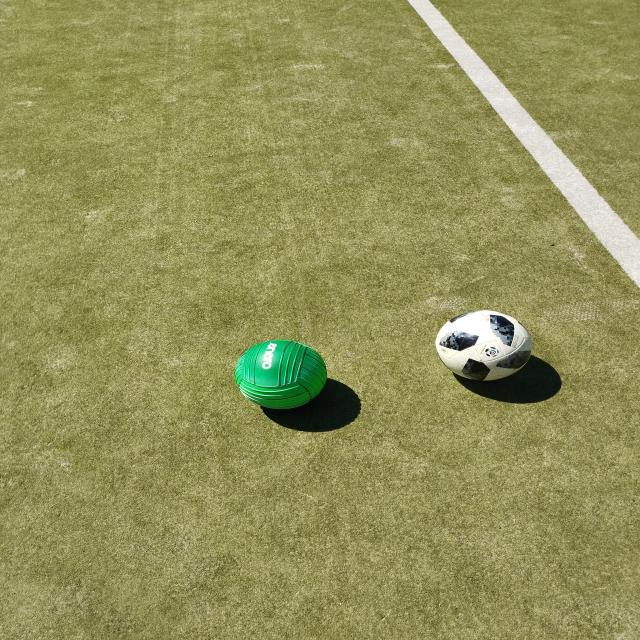nozna: (436, 310, 533, 381)
zielona: (235, 339, 328, 410)
